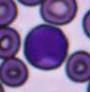L: (24, 24, 69, 70)
